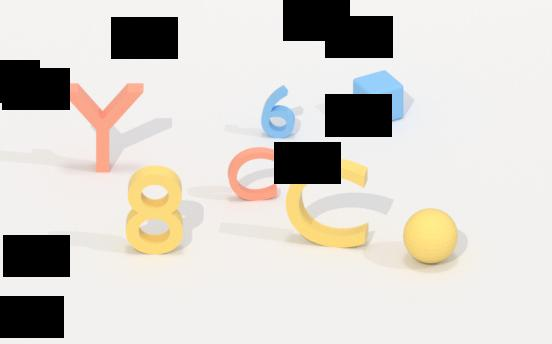6: (257, 84, 299, 139)
8: (122, 166, 191, 259)
Y-hoa: (58, 80, 152, 175)
c: (284, 157, 386, 252), (224, 145, 282, 202)
cau: (400, 205, 462, 266)
hop: (349, 70, 410, 128)
